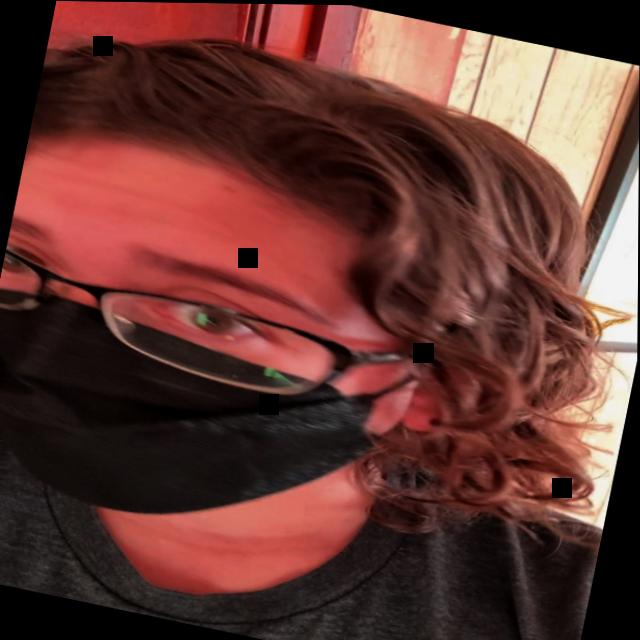Mask: (0, 115, 456, 565)
